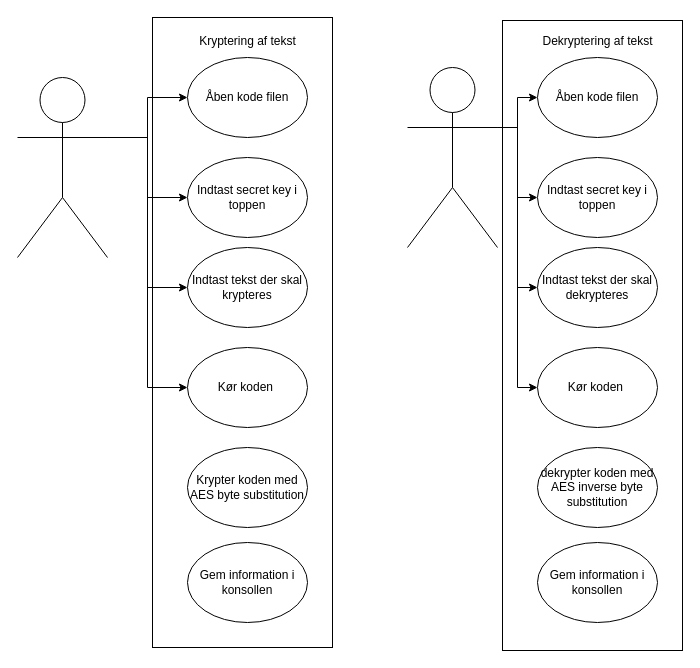
This 700x668 diagram has some shape labels left out. Each missing label, with the centre of its shape:
Bruger 1: pixel 62 167
Bruger 2: pixel 452 157
